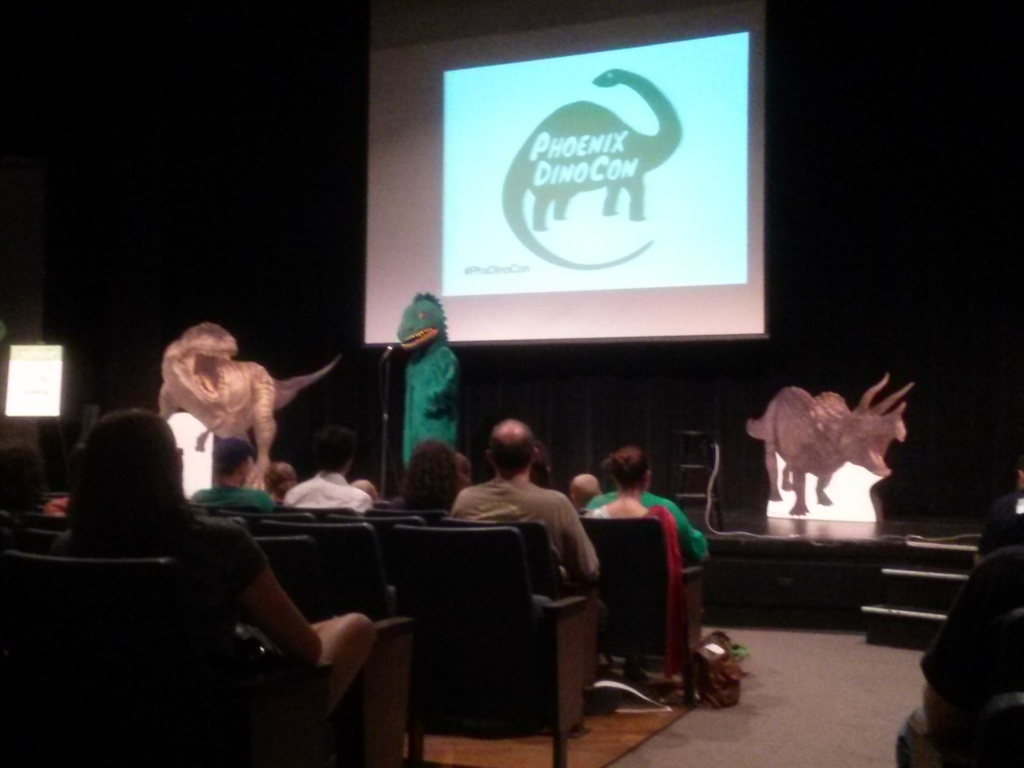Animal: (502, 69, 681, 270), (149, 326, 344, 491), (747, 371, 907, 518), (399, 294, 463, 477)
